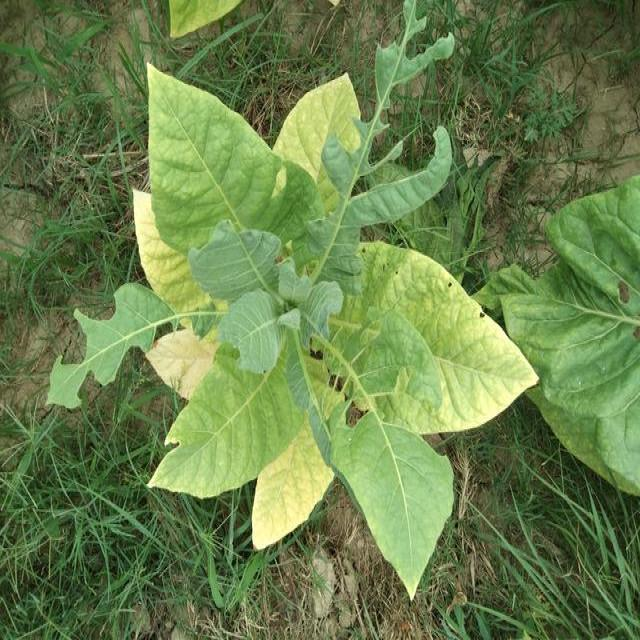crop: (46, 35, 539, 608)
